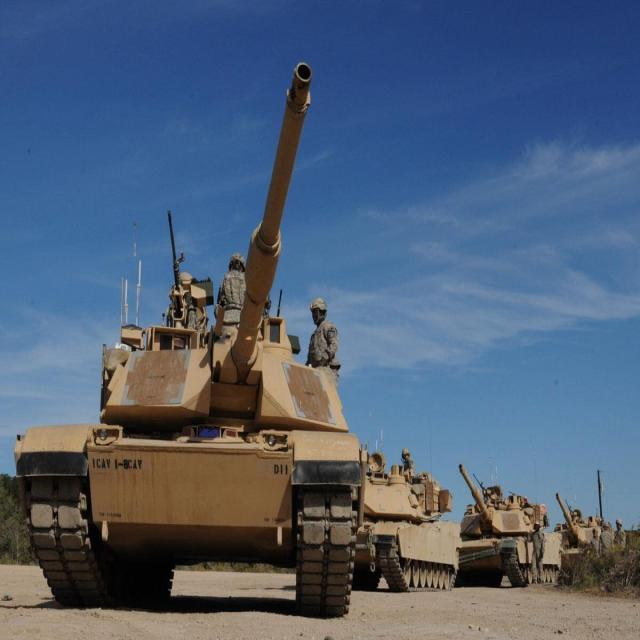Tanks: (12, 10, 360, 624), (334, 356, 461, 602), (437, 406, 558, 603), (547, 448, 576, 610)
